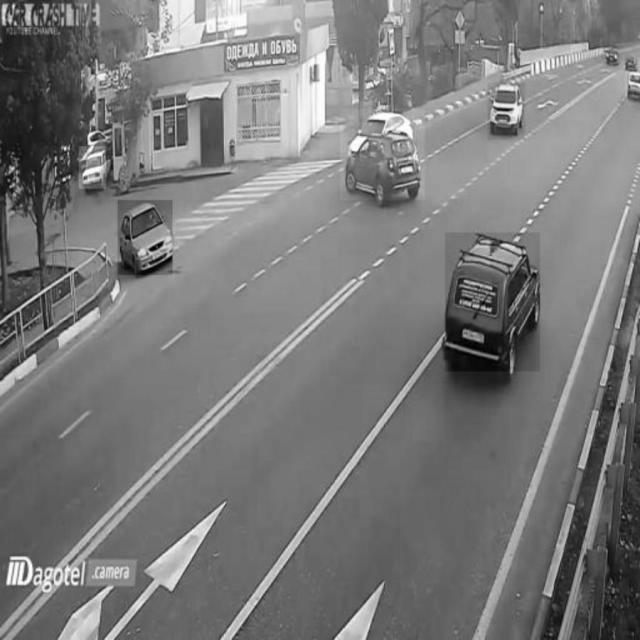accident: (340, 109, 426, 200)
vehicle: (446, 233, 540, 371), (118, 200, 173, 274), (488, 82, 525, 140), (79, 147, 106, 189), (625, 64, 640, 106), (603, 42, 623, 69)
